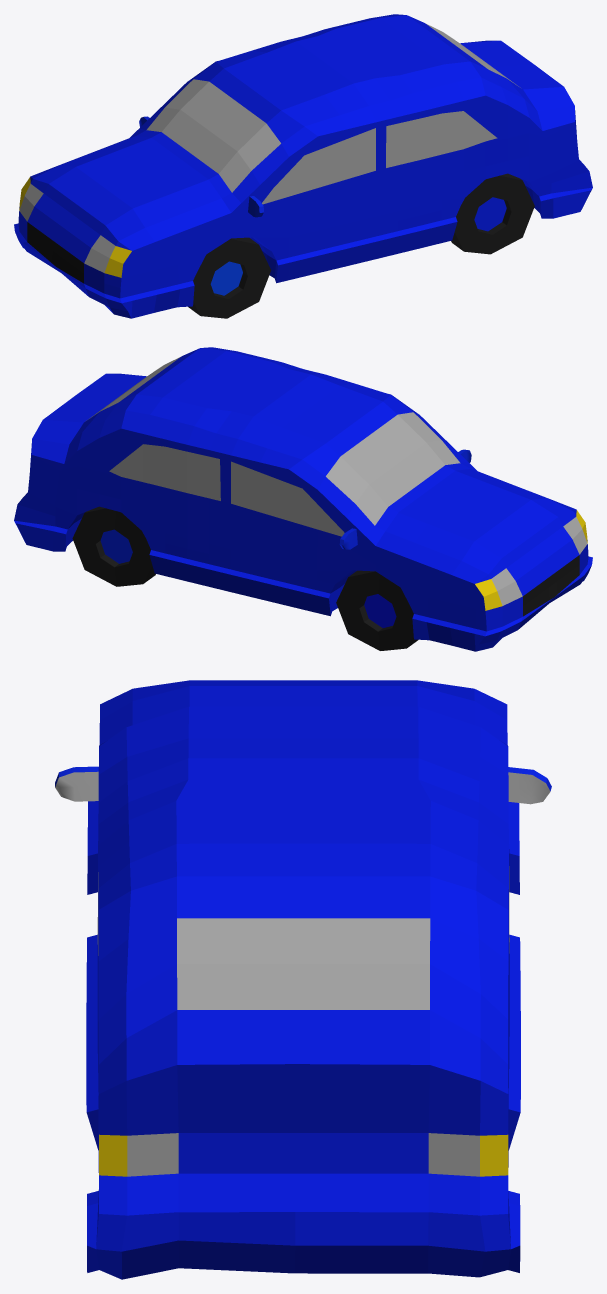
Rendered from car_BLUE.fbx.
The picture shows the model from 3 angles, top to bottom: view 1: azimuth 30°, elevation 25°; view 2: azimuth 150°, elevation 25°; view 3: azimuth 270°, elevation 25°; orthographic projection. The views are drawn at different scales.
Parts seen in each view (by area): view 1: CAR; view 2: CAR; view 3: CAR.
Part boxes in pixels (x1,y1,x2,y2): CAR: (14,14,592,318); CAR: (14,347,592,651); CAR: (55,680,551,1279).
Size of the model in its own units: 2257 by 828 by 995.
